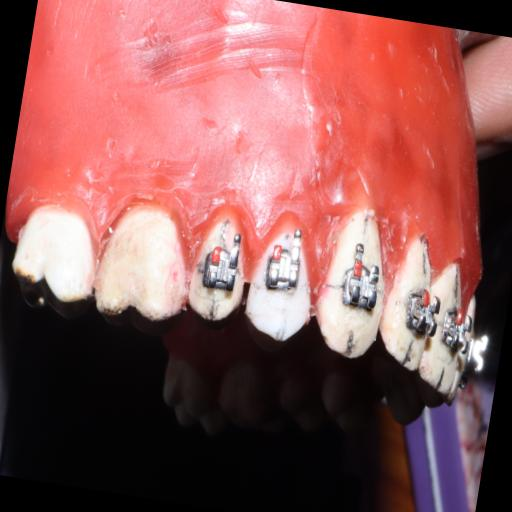correct_brace: (238, 220, 324, 346)
